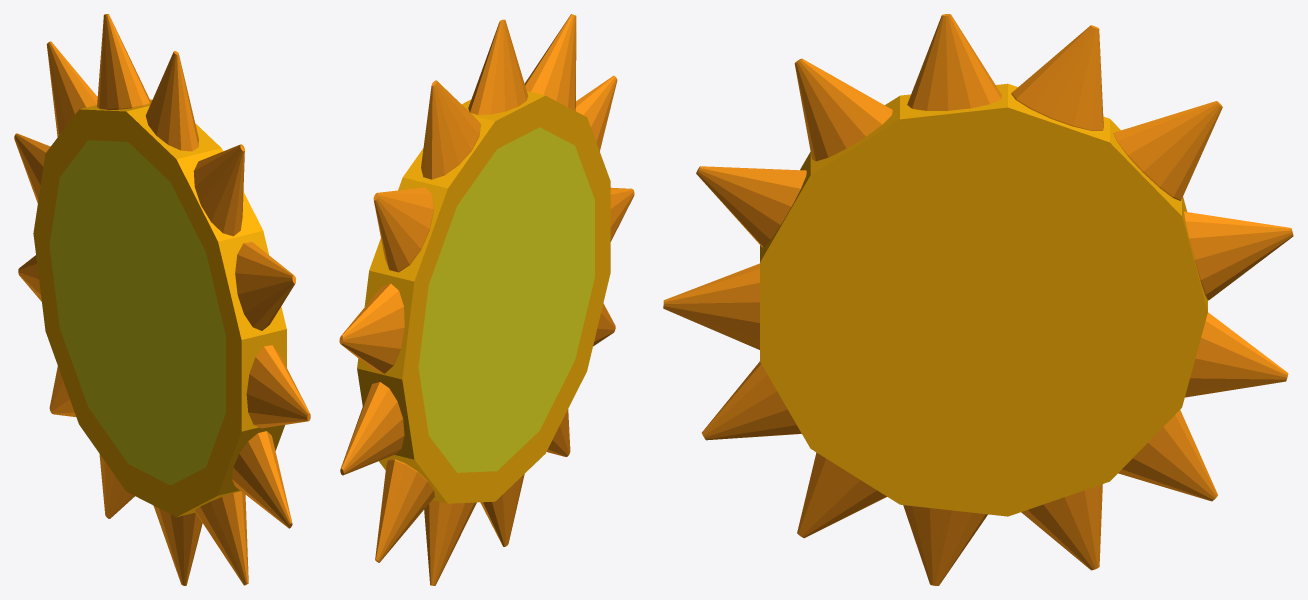
Rendered from SM_Sun.fbx.
3 views of the same model, side by side, from view 1: azimuth 30°, elevation 25°; view 2: azimuth 150°, elevation 25°; view 3: azimuth 270°, elevation 25° (orthographic). The views are drawn at different scales.
Visible parts, largest first — view 1: SM_Sol; view 2: SM_Sol; view 3: SM_Sol.
Part boxes in pixels (x1,y1,x2,y2): SM_Sol: [14, 14, 310, 585]; SM_Sol: [339, 14, 634, 585]; SM_Sol: [663, 14, 1293, 585].
Size of the model in its own units: 14.2 by 159 by 159.
